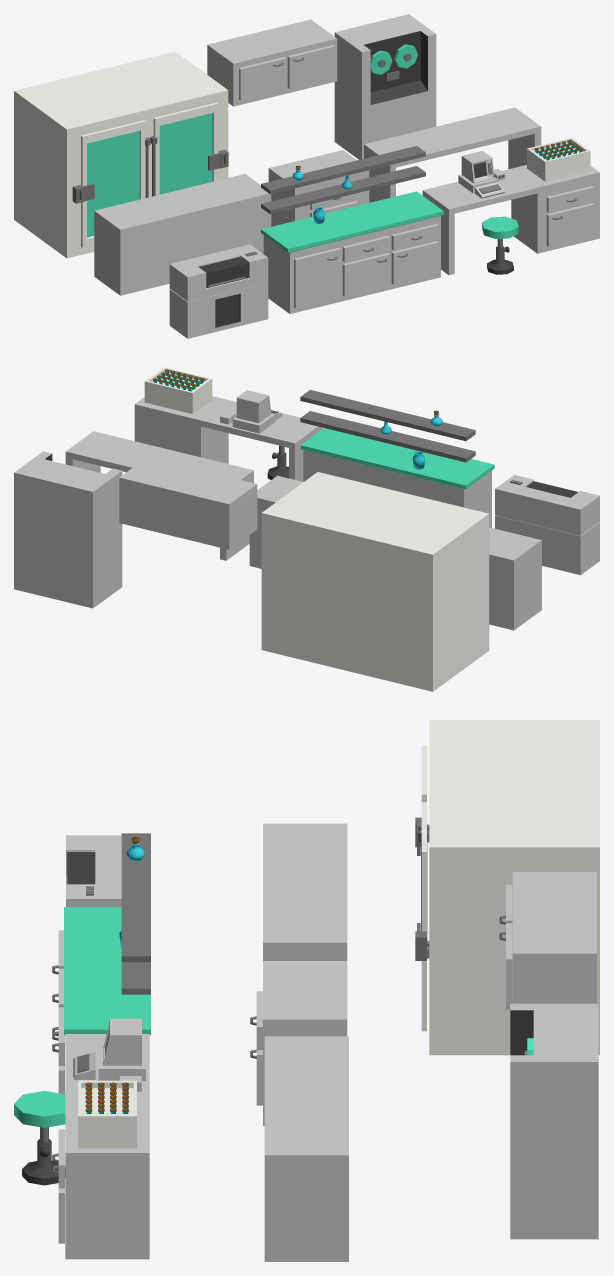
Rendered from Lab.fbx.
3 views of the same model, one above another, from view 1: azimuth 30°, elevation 25°; view 2: azimuth 150°, elevation 25°; view 3: azimuth 270°, elevation 25° (orthographic). The views are drawn at different scales.
Parts seen in each view (by area): view 1: frezzer, balcony_center, balcony_base, record, balcony_seat, air_balcony, balcony_printer, balcony_table, balcony_bidet, box_samples, computer, chair (+1 smaller); view 2: frezzer, record, balcony_center, air_balcony, balcony_printer, balcony_seat, balcony_base, balcony_table, box_samples, computer, balcony_bidet, samples (+1 smaller); view 3: frezzer, record, balcony_table, balcony_center, balcony_seat, air_balcony, balcony_base, balcony_bidet, balcony_printer, box_samples, computer, chair (+1 smaller).
Boxes of the visible parts, box(x1,y1,x2,y2) form: frezzer: box(14, 51, 228, 258); balcony_center: box(261, 146, 443, 313); balcony_base: box(94, 174, 271, 295); record: box(334, 14, 436, 159); balcony_seat: box(422, 165, 599, 275); air_balcony: box(207, 19, 337, 106); balcony_printer: box(169, 244, 268, 338); balcony_table: box(364, 107, 541, 202); balcony_bidet: box(268, 150, 369, 226); box_samples: box(527, 137, 590, 181); computer: box(458, 151, 505, 198); chair: box(482, 216, 518, 274); frezzer: box(261, 472, 489, 691); record: box(14, 451, 122, 608); balcony_center: box(300, 390, 494, 527); air_balcony: box(119, 457, 257, 549); balcony_printer: box(495, 475, 599, 575); balcony_seat: box(134, 396, 322, 481); balcony_base: box(489, 527, 541, 630); balcony_table: box(65, 431, 253, 560); box_samples: box(144, 367, 212, 413); computer: box(220, 390, 282, 433); balcony_bidet: box(249, 475, 303, 568); samples: box(153, 369, 203, 391); frezzer: box(415, 720, 599, 1055); record: box(510, 1003, 598, 1239); balcony_table: box(264, 1036, 348, 1261); balcony_center: box(52, 833, 150, 1094); balcony_seat: box(52, 1034, 149, 1259); air_balcony: box(499, 872, 596, 1009); balcony_base: box(263, 823, 347, 960); balcony_bidet: box(250, 961, 347, 1125); balcony_printer: box(66, 835, 121, 906); box_samples: box(78, 1080, 136, 1148); computer: box(73, 1018, 145, 1091); chair: box(14, 1091, 65, 1185).
Size of the model in its own units: 1868 by 544 by 1387.
